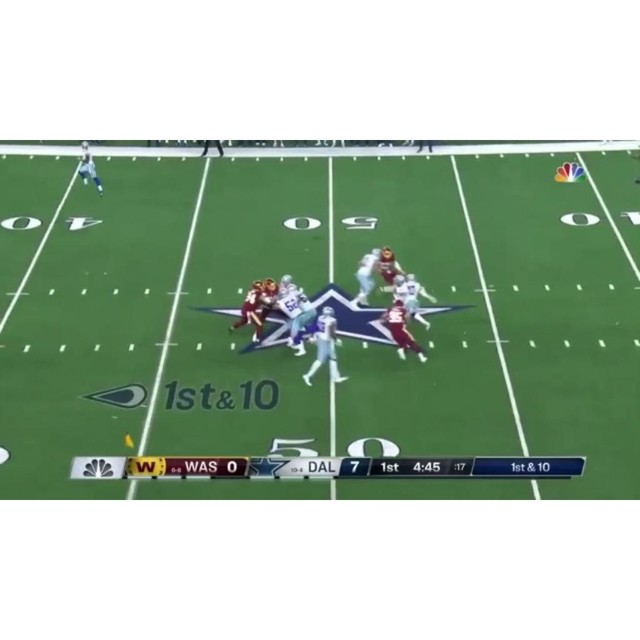american-football-player: (303, 304, 348, 387), (383, 299, 428, 364), (229, 281, 268, 343), (276, 286, 311, 354), (396, 272, 434, 332), (351, 248, 383, 306), (375, 246, 406, 299), (78, 141, 105, 198)
